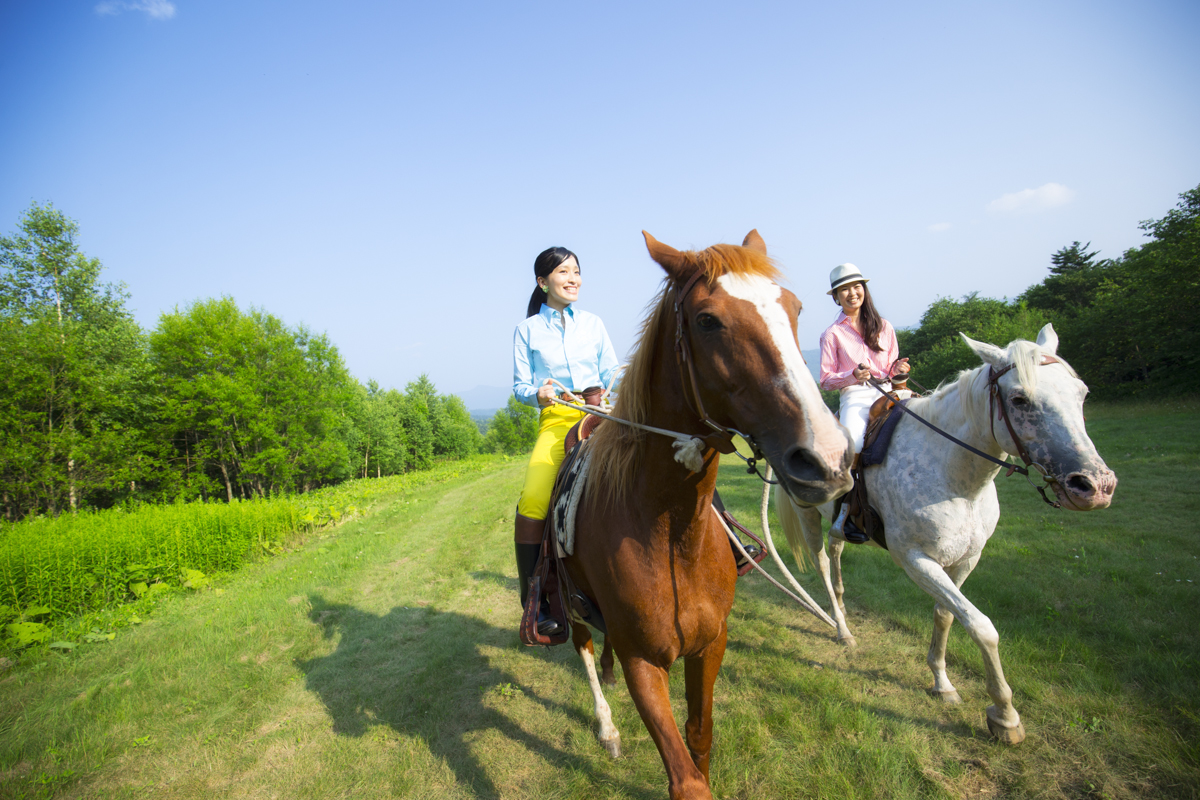horse: (530, 225, 854, 782), (788, 338, 1118, 744)
woman: (509, 244, 633, 646), (814, 262, 924, 552)
